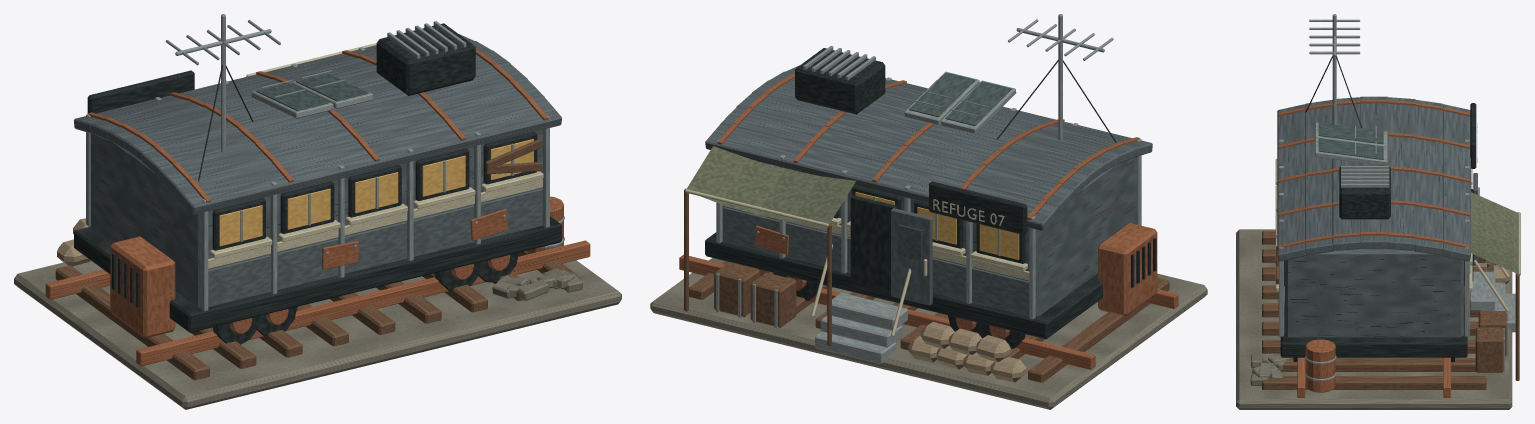
File: refuge_hq.glb
The picture shows the model from 3 angles, left to right: view 1: azimuth 30°, elevation 25°; view 2: azimuth 150°, elevation 25°; view 3: azimuth 270°, elevation 25°; orthographic projection. The views are drawn at different scales.
Parts seen in each view (by area): view 1: Refuge_HQ_LOD0; view 2: Refuge_HQ_LOD0; view 3: Refuge_HQ_LOD0.
Boxes of the visible parts, left/top/right/bottom form: Refuge_HQ_LOD0: left=14, top=14, right=621, bottom=409; Refuge_HQ_LOD0: left=650, top=14, right=1207, bottom=409; Refuge_HQ_LOD0: left=1236, top=14, right=1520, bottom=409.
Bounding box in the file's own units: 6.26 × 4.36 × 4.27.
Materials: 1 (1 with a texture image).
